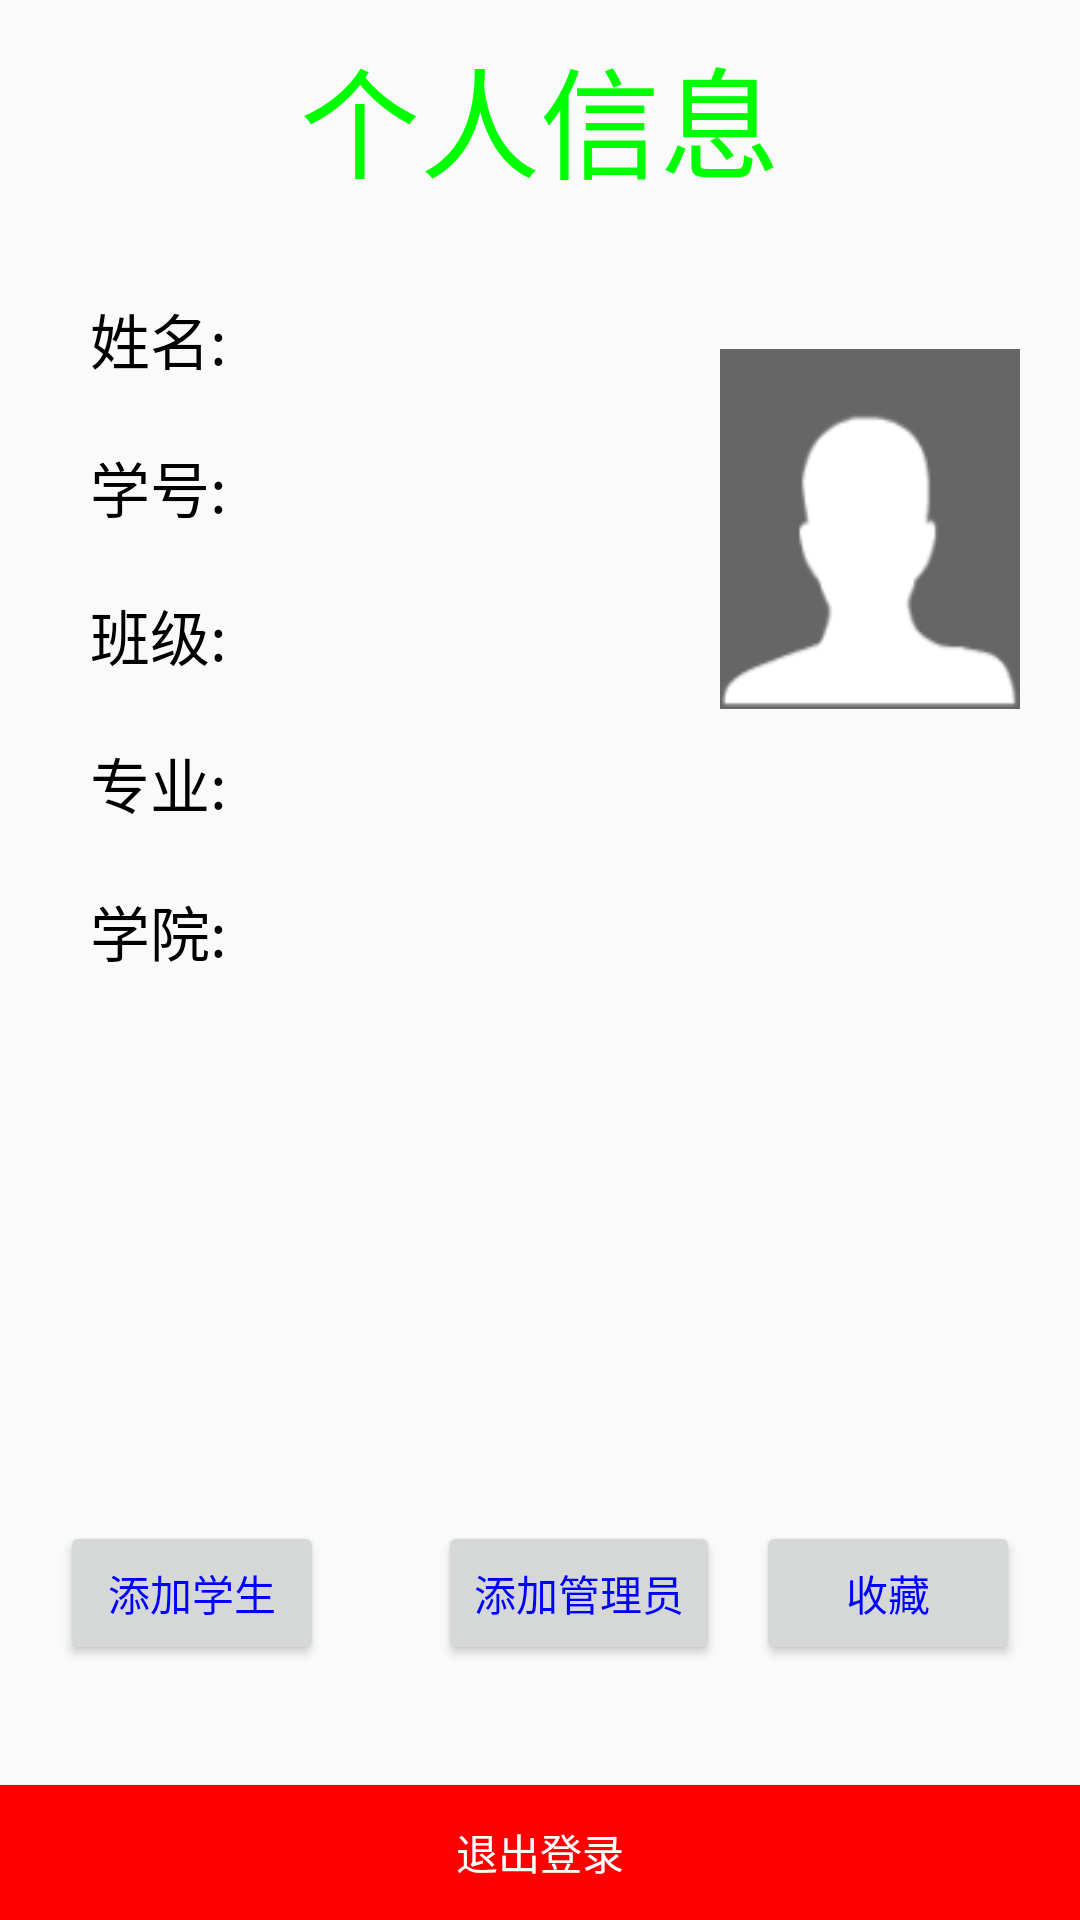

Named icons in this screenshot (1080w x 1920h) and their bounding boxes, (x1, y1, x2, y2):
person: (720, 349, 1020, 709)
